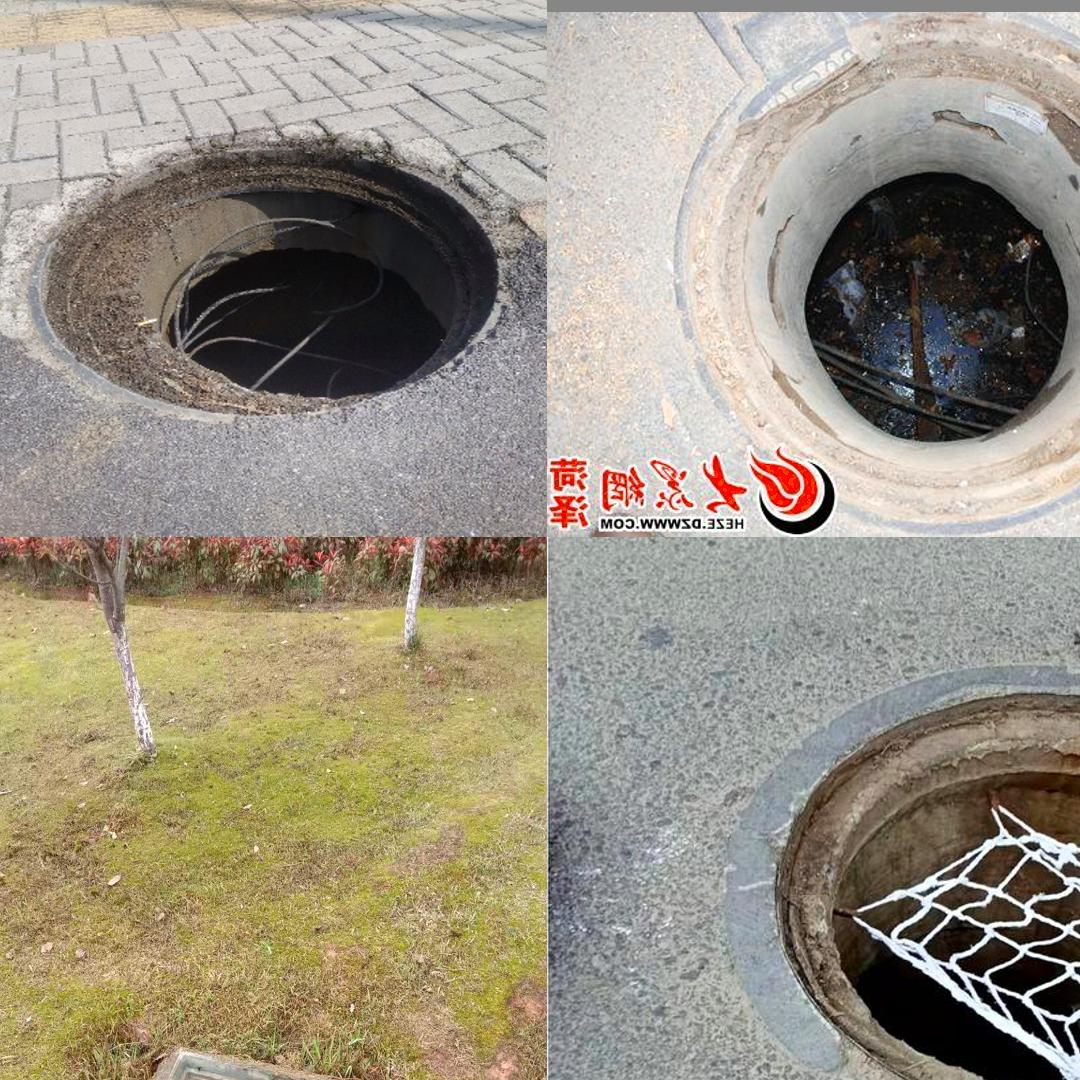lose: (663, 16, 1080, 526), (749, 669, 1080, 1080), (25, 143, 503, 418), (123, 1045, 390, 1080)
